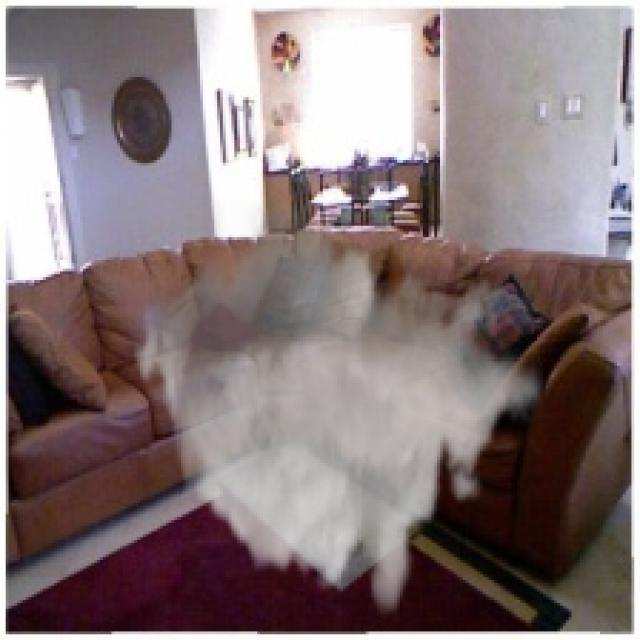Smoke: (131, 200, 546, 620)
